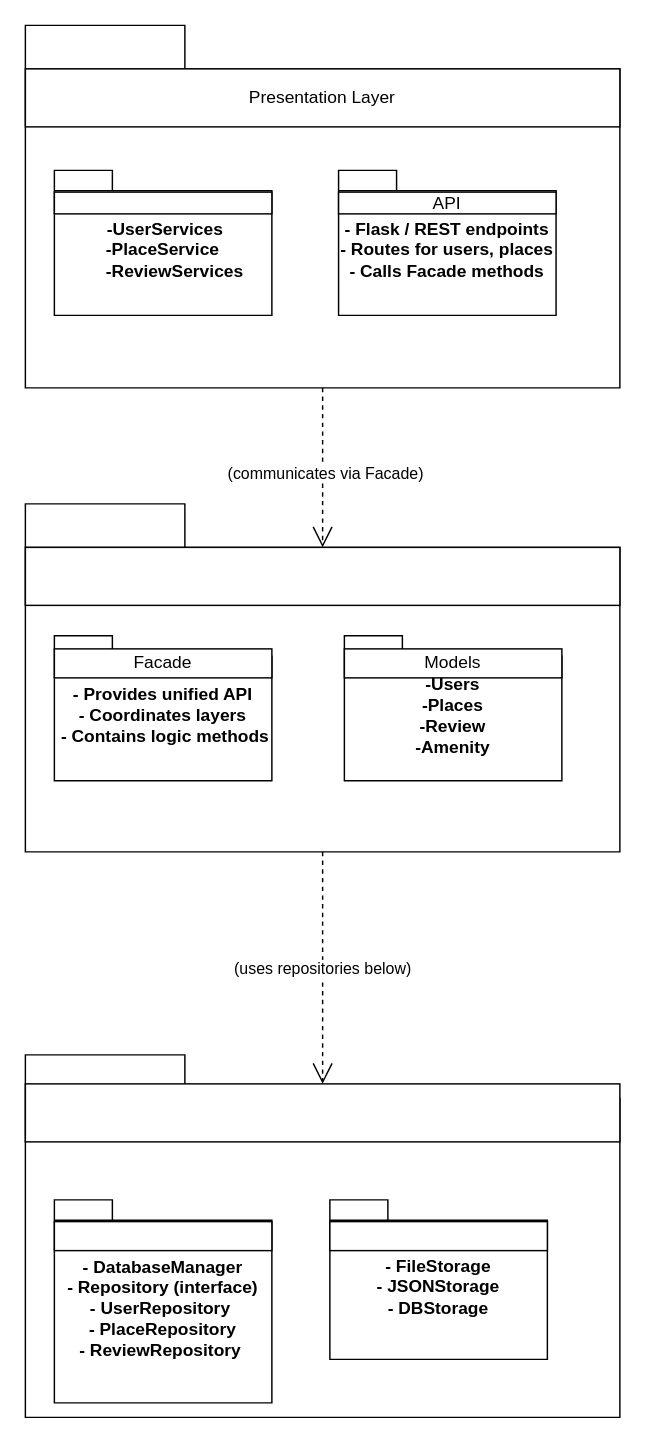
This 645x1443 diagram has some shape labels left out. The centre of each missing label's shape, as x and y in pixels:
Business Logic Layer: point (322, 575)
Persistence Layer: point (322, 1112)
Repository: point (162, 1235)
Services: point (162, 202)
Storage Implementations: point (437, 1235)
